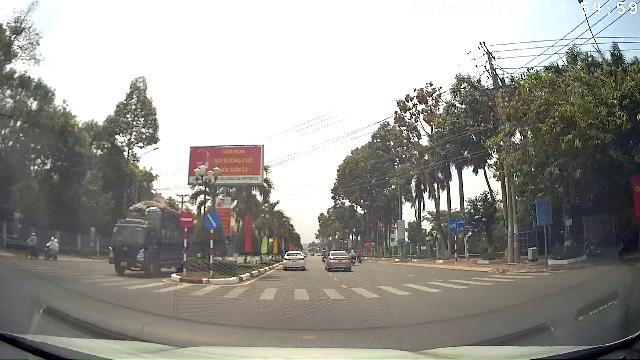102-cam-di-nguoc-chieu: (178, 211, 195, 228)
302a-huong-phai-di-vong-chuong-ngai-vat-1: (203, 211, 221, 229)
